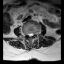CCS_stenosis: (29, 30, 31, 39)
LFS_stenosis: (33, 30, 35, 36)
LLS_normal: (31, 31, 33, 37)
RFS_stenosis: (26, 31, 28, 37)
RLS_normal: (28, 31, 29, 38)
